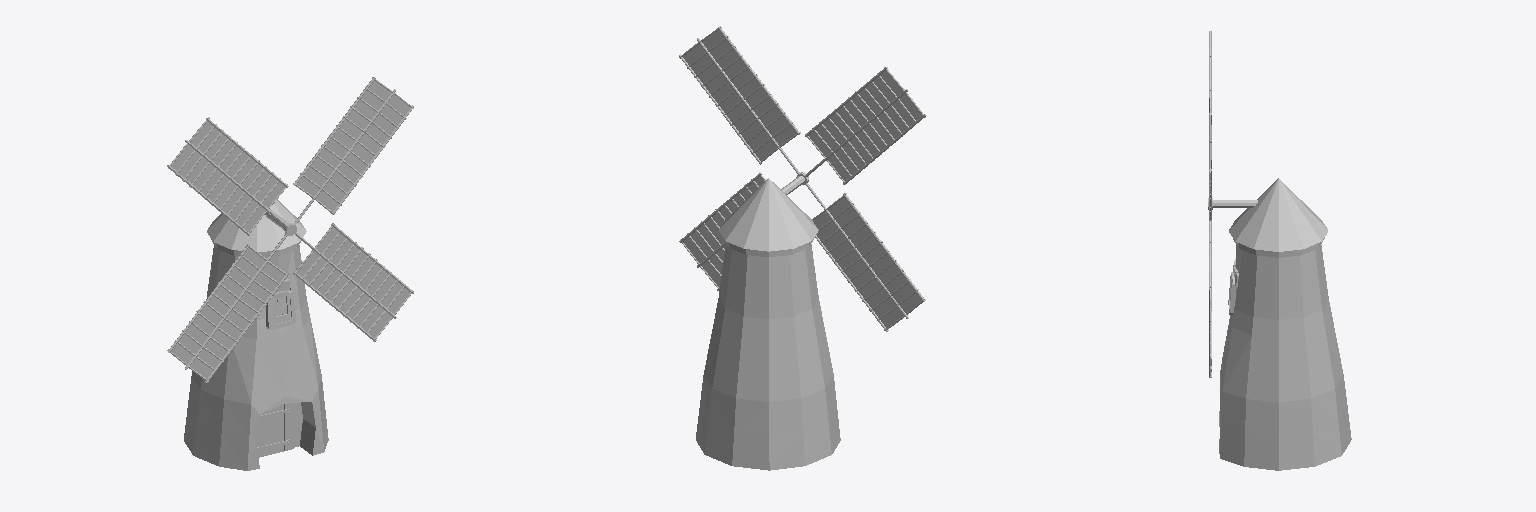
The model's file is windmill.obj.
3 views of the same model, side by side, from view 1: azimuth 30°, elevation 25°; view 2: azimuth 150°, elevation 25°; view 3: azimuth 270°, elevation 25° (orthographic).
Visible parts, largest first — view 1: Windmill_wheel_Cylinder.001, Windmill_Cylinder; view 2: Windmill_Cylinder, Windmill_wheel_Cylinder.001; view 3: Windmill_Cylinder, Windmill_wheel_Cylinder.001.
Boxes of the visible parts, x1=… form: Windmill_wheel_Cylinder.001: x1=167, y1=77, x2=413, y2=382; Windmill_Cylinder: x1=184, y1=199, x2=328, y2=470; Windmill_Cylinder: x1=696, y1=172, x2=840, y2=470; Windmill_wheel_Cylinder.001: x1=679, y1=26, x2=926, y2=331; Windmill_Cylinder: x1=1208, y1=178, x2=1351, y2=470; Windmill_wheel_Cylinder.001: x1=1209, y1=31, x2=1211, y2=377.
Size of the model in its own units: 12.75 by 18.16 by 6.41.